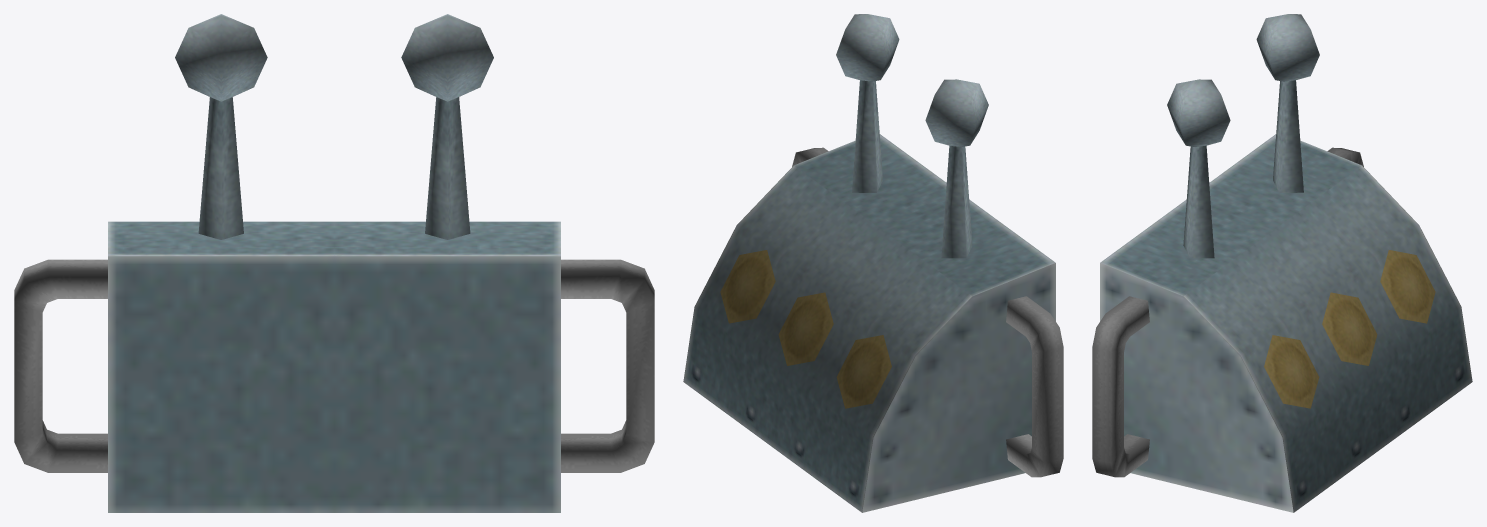
The model's file is sandlot.ico.obj.
3 renders of one model, left to right at view 1: azimuth 30°, elevation 25°; view 2: azimuth 150°, elevation 25°; view 3: azimuth 270°, elevation 25°, orthographic. The views are drawn at different scales.
Size of the model in its own units: 4.19 by 3.62 by 3.4.
1 material, 1 textured.
